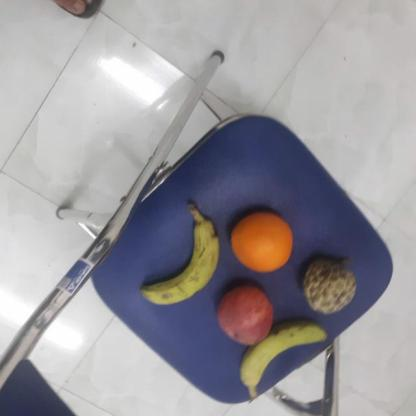annona: (302, 256, 359, 314)
apple: (213, 284, 275, 346)
banana: (137, 218, 226, 308), (229, 326, 330, 384)
orange: (228, 209, 297, 278)
